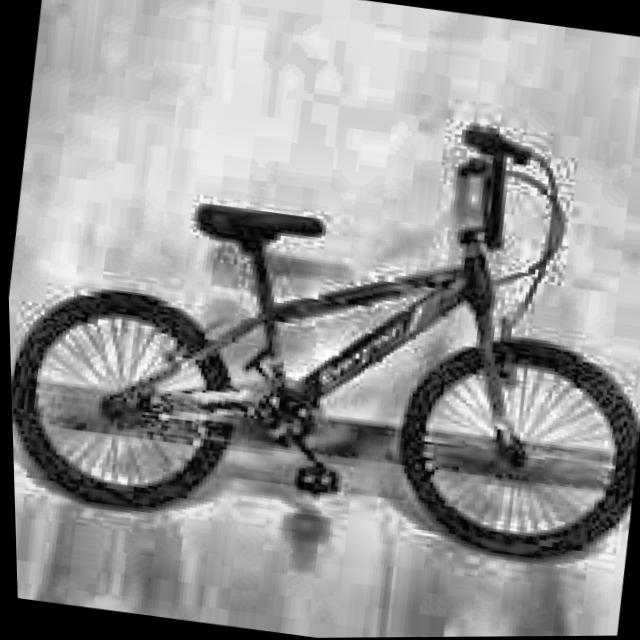bike: (1, 48, 640, 596)
